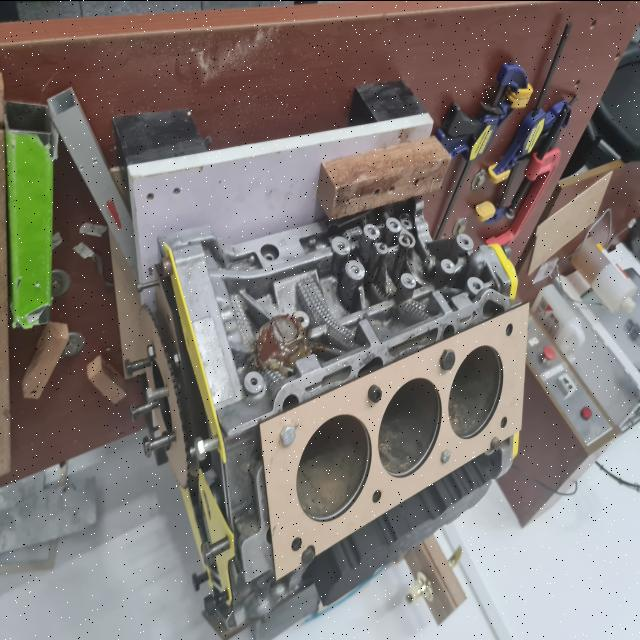vista1: (262, 301, 530, 579)
